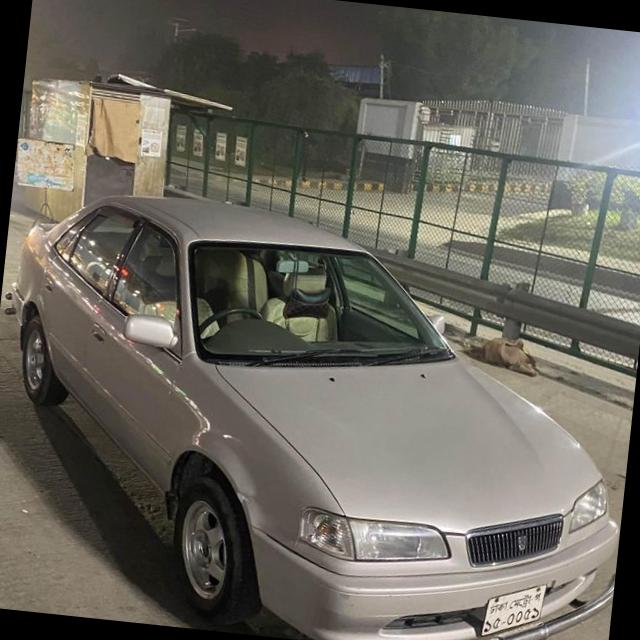Number-Plate: (467, 585, 563, 640)
